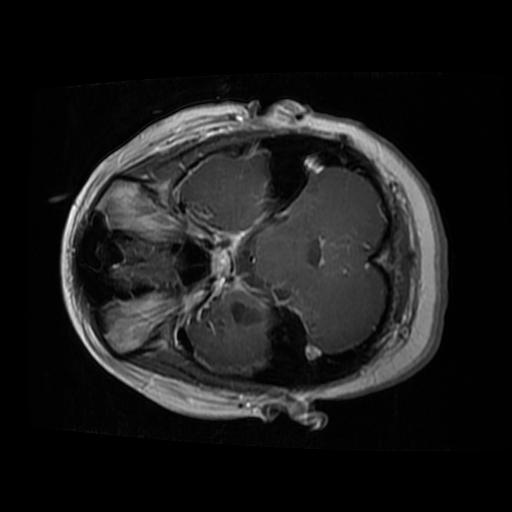glioma: (227, 299, 268, 331)
